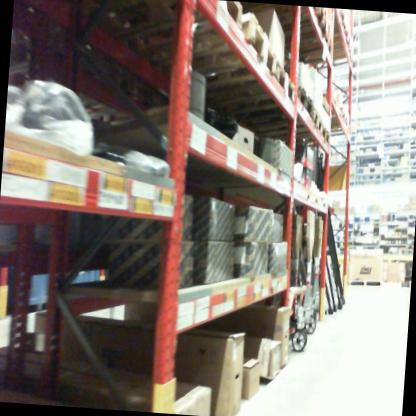pallet: (91, 0, 283, 96), (53, 0, 247, 74), (183, 77, 319, 138), (168, 62, 298, 120), (265, 29, 342, 63), (272, 7, 339, 40), (289, 128, 331, 154), (309, 104, 325, 139), (346, 277, 386, 289)
pallet_truck: (275, 199, 319, 362), (294, 206, 323, 357), (309, 211, 334, 342)
